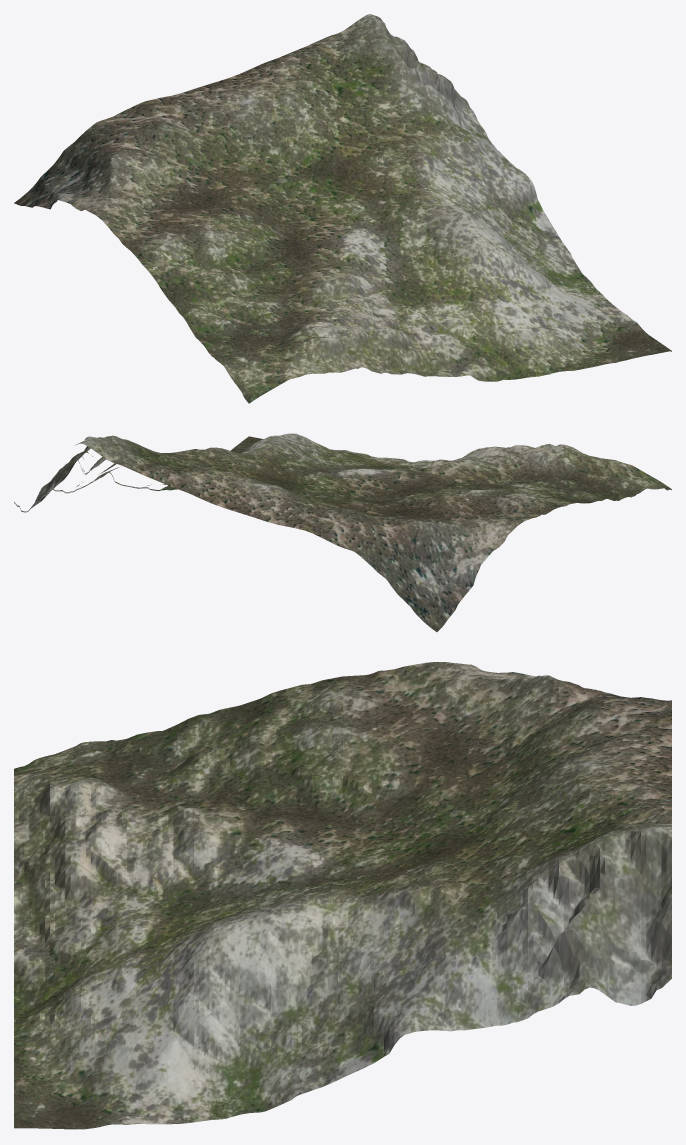
3 views of the same model, one above another, from view 1: azimuth 30°, elevation 25°; view 2: azimuth 150°, elevation 25°; view 3: azimuth 270°, elevation 25° (orthographic). The views are drawn at different scales.
Size of the model in its own units: 1000 by 415 by 963.
1 material, 1 textured.
